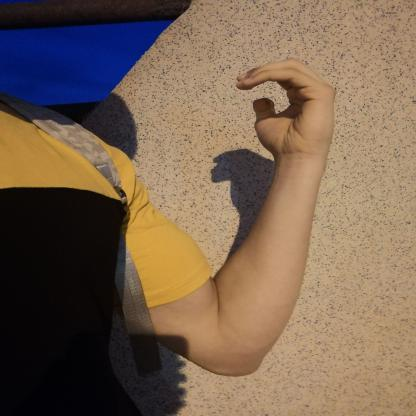JEEM: (219, 49, 349, 168)
